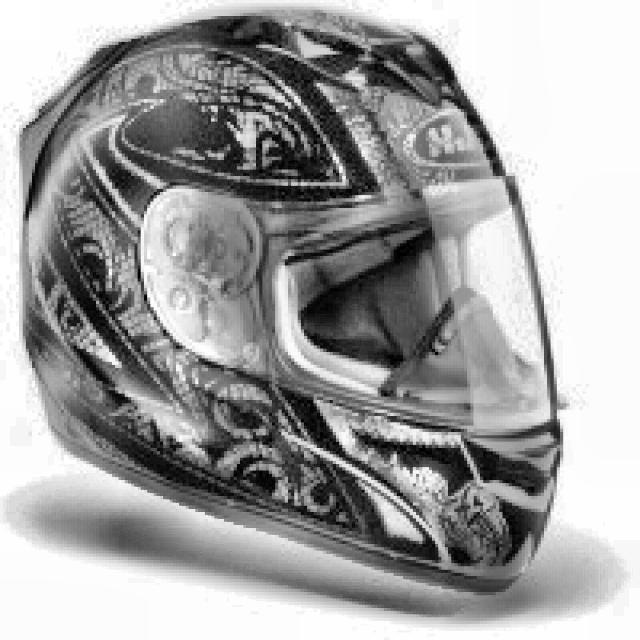Helmet: (6, 10, 590, 606)
